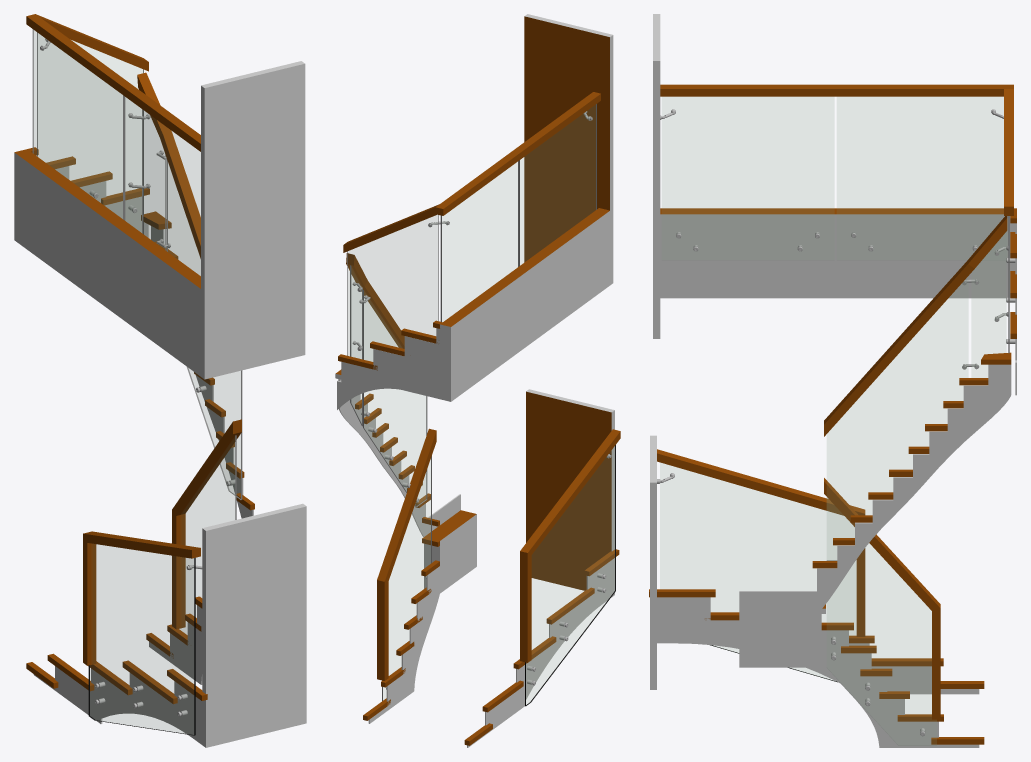
The model's file is 3D Сборка 1.obj.
3 renders of one model, left to right at view 1: azimuth 30°, elevation 25°; view 2: azimuth 150°, elevation 25°; view 3: azimuth 270°, elevation 25°, orthographic. The views are drawn at different scales.
Size of the model in its own units: 1.15 by 5.25 by 2.57.
